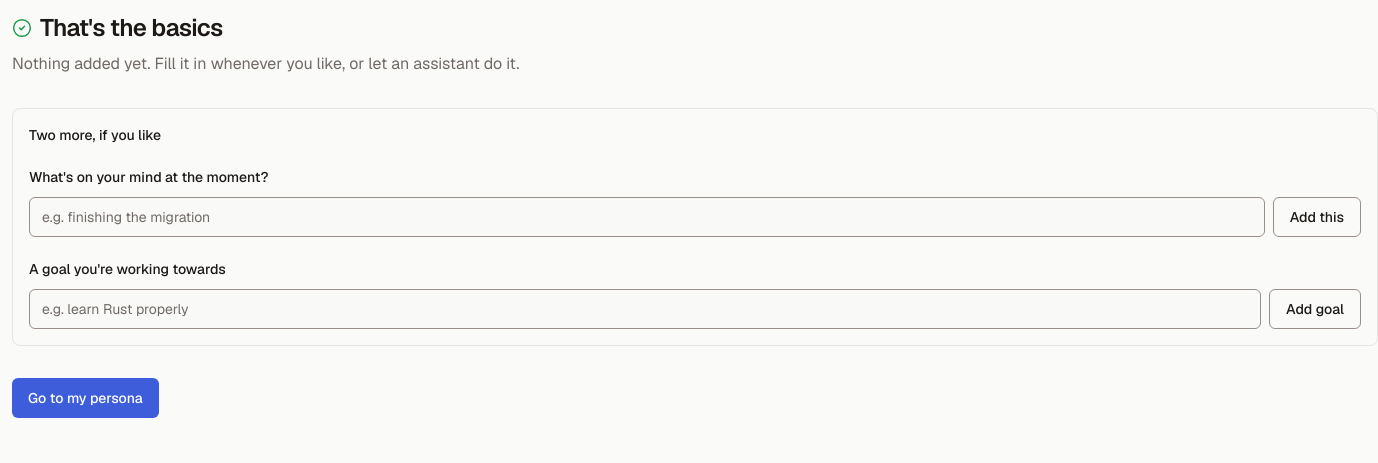
Test case: StepComplete › adds a top-of-mind item under projects
Type "The migration" into the field labelled "What's on your mind at the moment?" at (647, 217), box [29,197,1265,237]
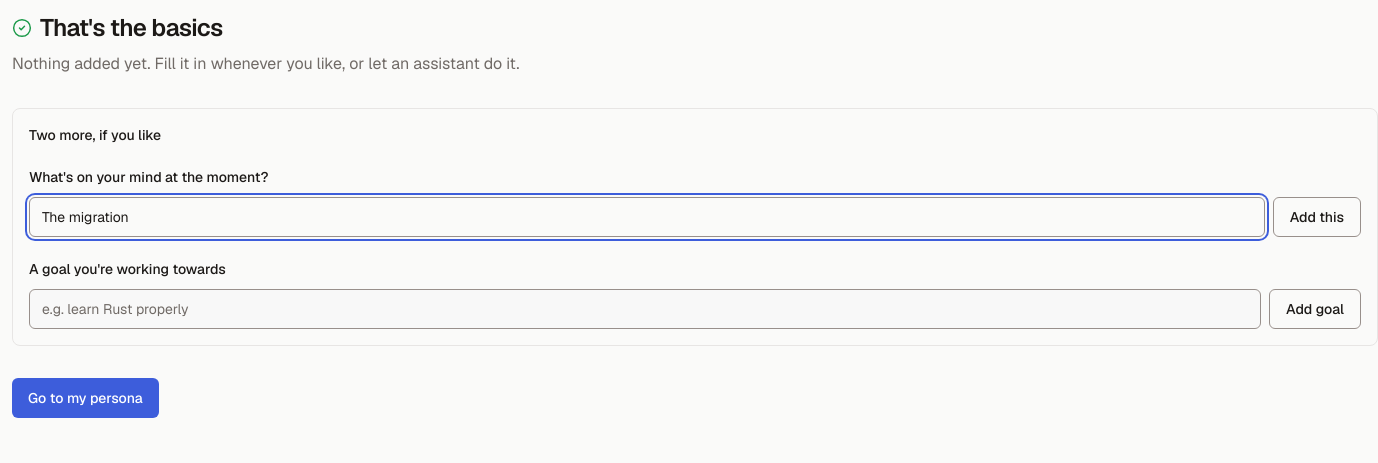
Click the button "Add this" at (1317, 217), box [1273,197,1361,237]
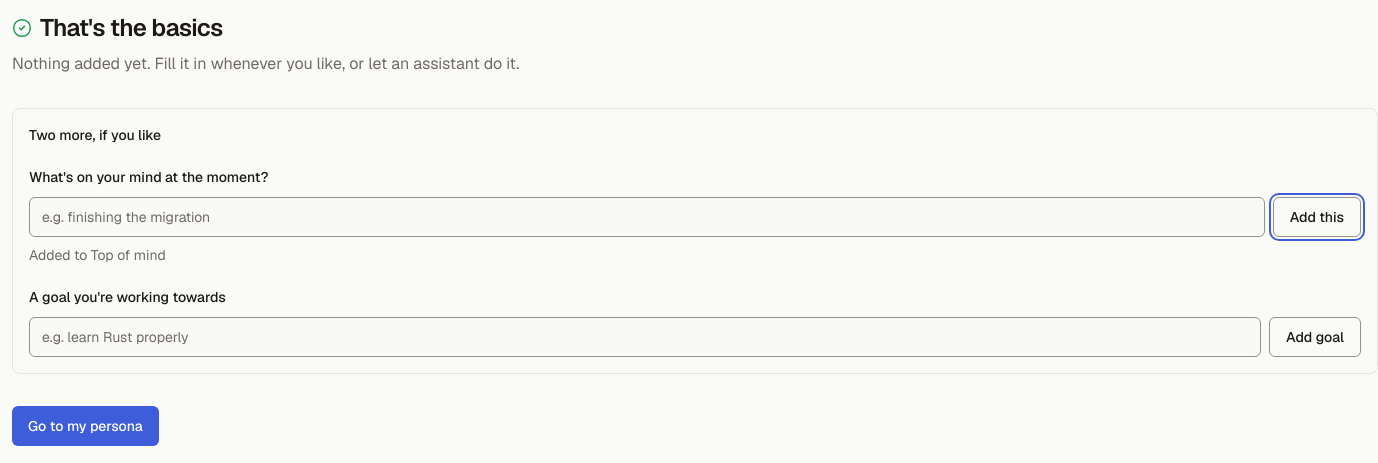
Check: the message reads "Added to Top of mind", box [29,246,166,264]
